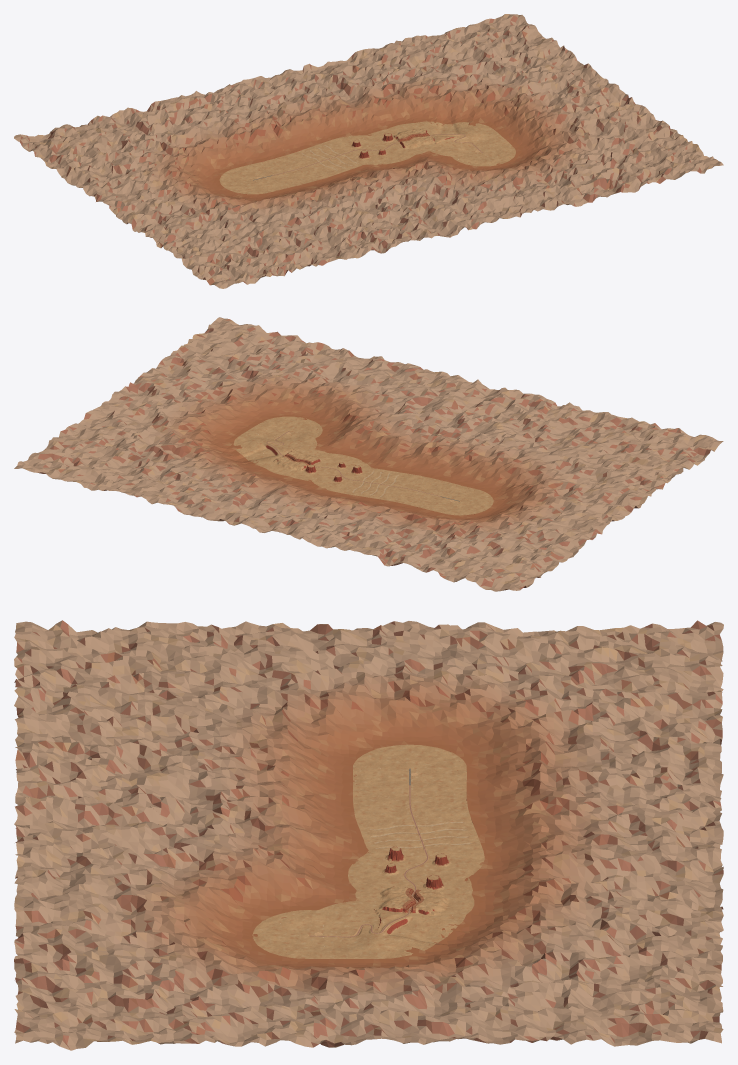
File: arizona.glb
The picture shows the model from 3 angles, top to bottom: view 1: azimuth 30°, elevation 25°; view 2: azimuth 150°, elevation 25°; view 3: azimuth 270°, elevation 25°; orthographic projection. The views are drawn at different scales.
Visible parts, largest first — view 1: SM_Arizona_Backdrop_0; view 2: SM_Arizona_Backdrop_0; view 3: SM_Arizona_Backdrop_0, SM_Arizona_Tile_10_4, SM_Arizona_Tile_10_3, SM_Arizona_Tile_7_3, SM_Arizona_Tile_10_1, SM_Arizona_Tile_10_2, SM_Arizona_Tile_7_4, SM_Arizona_Tile_5_4, SM_Arizona_Tile_5_3, SM_Arizona_Tile_11_3, SM_Arizona_Tile_1_3, SM_Arizona_Tile_1_4 (+14 smaller).
Boxes of the visible parts, x1=… form: SM_Arizona_Backdrop_0: x1=14, y1=14, x2=723, y2=288; SM_Arizona_Backdrop_0: x1=14, y1=317, x2=723, y2=591; SM_Arizona_Backdrop_0: x1=14, y1=620, x2=723, y2=1050; SM_Arizona_Tile_10_4: x1=409, y1=908, x2=453, y2=934; SM_Arizona_Tile_10_3: x1=366, y1=908, x2=410, y2=932; SM_Arizona_Tile_7_3: x1=366, y1=850, x2=410, y2=877; SM_Arizona_Tile_10_1: x1=279, y1=912, x2=324, y2=932; SM_Arizona_Tile_10_2: x1=323, y1=911, x2=367, y2=932; SM_Arizona_Tile_7_4: x1=409, y1=853, x2=453, y2=877; SM_Arizona_Tile_5_4: x1=409, y1=822, x2=453, y2=841; SM_Arizona_Tile_5_3: x1=366, y1=823, x2=409, y2=841; SM_Arizona_Tile_11_3: x1=366, y1=927, x2=410, y2=948; SM_Arizona_Tile_1_3: x1=366, y1=750, x2=410, y2=768; SM_Arizona_Tile_1_4: x1=409, y1=750, x2=453, y2=768.
Bounding box in the file's own units: 5922 × 194 × 4211.
